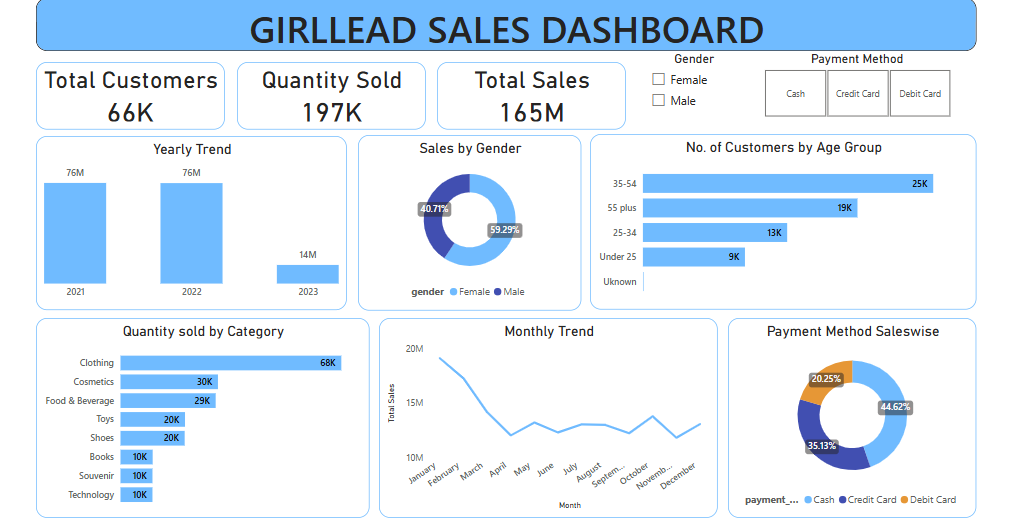

The dashboard page shown, as its layout file describes it:
{"tool":"powerbi","page":{"name":"Page 1","canvas":[1280,720],"ordinal":0},"visuals":[{"type":"textbox","title":"GIRLLEAD SALES DASHBOARD","box":[0,0,1280.2,72],"z":0},{"type":"card","title":"Total Customers","fields":{"Values":["Count(Sales_data.customer_id)"]},"box":[0,87.3,257,92.4],"z":1000},{"type":"card","title":"Quantity Sold","fields":{"Values":["Sum(Sales_data.quantity)"]},"box":[273.8,87.3,257,92.4],"z":2000},{"type":"card","title":"Total Sales","fields":{"Values":["Sales_data.Total Sales"]},"box":[545.9,87.3,257,92.4],"z":3000},{"type":"donutChart","title":"Sales by Gender","fields":{"Y":["Sales_data.Total Sales"],"Category":["Sales_data.gender"]},"box":[438.4,186.5,304,238.5],"z":5000},{"type":"donutChart","title":"Payment Method Saleswise","fields":{"Y":["Sales_data.Total Sales"],"Category":["Sales_data.payment_method"]},"box":[941.8,434.9,338.4,272.2],"z":6000},{"type":"lineChart","title":"Monthly Trend","fields":{"Category":["Sales_data.invoice_date.Variation.Date Hierarchy.Month"],"Y":["Sales_data.Total Sales"]},"box":[466.6,434.9,460.8,272.2],"z":7000},{"type":"columnChart","title":"Yearly Trend","fields":{"Y":["Sales_data.Total Sales"],"Category":["Sales_data.invoice_date.Variation.Date Hierarchy.Year"]},"box":[0,188.1,423.3,236.9],"z":8000},{"type":"barChart","title":"No. of Customers by Age Group","fields":{"Category":["Sales_data.Age Group"],"Y":["CountNonNull(Sales_data.customer_id)"]},"box":[754.6,185.8,525.6,239],"z":9000},{"type":"slicer","title":"Gender","fields":{"Values":["Sales_data.gender"]},"box":[826.5,72.2,139.4,107.5],"z":10000},{"type":"slicer","title":"Payment Method","fields":{"Values":["Sales_data.payment_method"]},"box":[966.2,72,302.4,96.5],"z":11000},{"type":"barChart","title":"Quantity sold by Category","fields":{"Y":["Sum(Sales_data.quantity)"],"Category":["Sales_data.category"]},"box":[0,434.9,453.6,272.2],"z":11001}]}

Visuals, with their boxes on the page's 1280x720 design canvas (x1, y1, x2, y2). These are canvas units, not pixel positions in the 1014x526 screenshot, which may show the page scaled, cropped or inside an application window:
"GIRLLEAD SALES DASHBOARD" textbox: <bbox>0, 0, 1280, 72</bbox>
"Total Customers" card: <bbox>0, 87, 257, 180</bbox>
"Quantity Sold" card: <bbox>274, 87, 531, 180</bbox>
"Total Sales" card: <bbox>546, 87, 803, 180</bbox>
"Sales by Gender" donutChart: <bbox>438, 186, 742, 425</bbox>
"Payment Method Saleswise" donutChart: <bbox>942, 435, 1280, 707</bbox>
"Monthly Trend" lineChart: <bbox>467, 435, 927, 707</bbox>
"Yearly Trend" columnChart: <bbox>0, 188, 423, 425</bbox>
"No. of Customers by Age Group" barChart: <bbox>755, 186, 1280, 425</bbox>
"Gender" slicer: <bbox>826, 72, 966, 180</bbox>
"Payment Method" slicer: <bbox>966, 72, 1269, 168</bbox>
"Quantity sold by Category" barChart: <bbox>0, 435, 454, 707</bbox>
